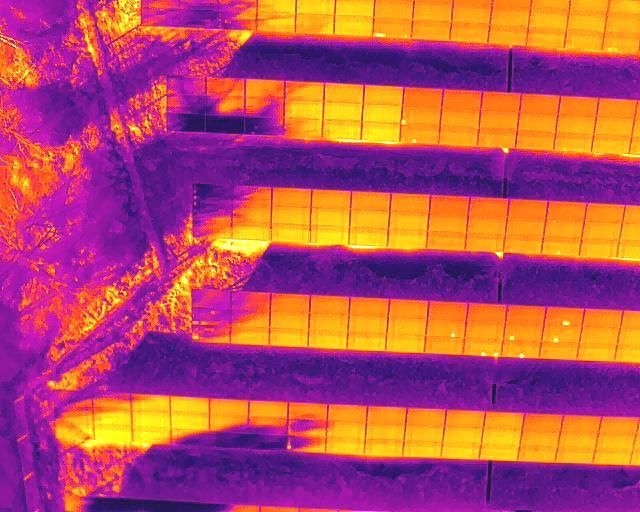Cell: (478, 129, 517, 147), (544, 308, 583, 326), (542, 238, 580, 256), (231, 309, 270, 326), (426, 320, 465, 337), (400, 125, 438, 142), (400, 108, 440, 124), (541, 326, 581, 342), (504, 325, 544, 340)
Cell-Multi: (602, 32, 639, 53), (553, 133, 593, 151), (373, 18, 410, 37), (501, 340, 541, 357), (463, 339, 503, 355), (193, 326, 230, 343), (193, 310, 231, 325)
No-Anomaly: (452, 2, 490, 24), (530, 6, 568, 28), (489, 24, 528, 45), (334, 15, 373, 36), (403, 87, 443, 107), (413, 0, 451, 21), (390, 193, 429, 213), (451, 23, 490, 43), (505, 306, 546, 325), (439, 124, 477, 144), (568, 10, 606, 30), (324, 84, 364, 103), (581, 310, 623, 328), (311, 189, 350, 208), (490, 5, 529, 24), (351, 191, 390, 210), (271, 187, 310, 206), (364, 85, 403, 104), (520, 95, 559, 114), (349, 227, 388, 246), (412, 21, 451, 40), (528, 28, 567, 47), (563, 31, 604, 49), (586, 203, 624, 222), (598, 99, 636, 118), (427, 232, 465, 251), (592, 135, 632, 153), (577, 344, 617, 362), (606, 11, 640, 32), (324, 120, 363, 138), (429, 195, 468, 213), (522, 413, 561, 431), (481, 92, 520, 110), (558, 97, 597, 115), (445, 410, 484, 428), (93, 409, 132, 427), (555, 116, 596, 133), (464, 321, 505, 338), (508, 200, 546, 218), (443, 90, 481, 108), (480, 111, 518, 129), (285, 119, 323, 137), (467, 216, 505, 234), (375, 0, 413, 18), (367, 406, 405, 424), (296, 16, 334, 34), (270, 329, 308, 347), (311, 225, 349, 243), (271, 207, 311, 224), (389, 212, 429, 229), (598, 416, 638, 433), (323, 103, 363, 120), (271, 225, 311, 242), (388, 301, 428, 318), (270, 295, 310, 312), (386, 334, 426, 351), (579, 327, 619, 344), (440, 108, 479, 125), (468, 199, 507, 216), (132, 428, 171, 445), (429, 214, 468, 231), (547, 202, 586, 219), (582, 222, 621, 239), (506, 218, 545, 235), (596, 433, 635, 450), (516, 131, 555, 148), (328, 404, 367, 421), (288, 402, 327, 419), (348, 317, 387, 334), (171, 396, 210, 413), (405, 408, 444, 425), (518, 114, 559, 130), (365, 439, 403, 456), (363, 105, 401, 122), (133, 411, 171, 428), (504, 236, 542, 253), (579, 239, 617, 256), (310, 314, 348, 331), (594, 118, 634, 134), (310, 297, 350, 313), (466, 305, 506, 321), (425, 338, 465, 354), (387, 318, 427, 334), (561, 415, 598, 432), (545, 219, 582, 236), (311, 209, 350, 225), (350, 211, 389, 227), (327, 422, 366, 438), (442, 442, 481, 458), (170, 413, 209, 429), (210, 399, 249, 415), (388, 230, 427, 246), (349, 300, 388, 316), (427, 304, 466, 320), (270, 312, 309, 328), (231, 328, 270, 344), (249, 401, 288, 417), (482, 429, 520, 445), (232, 224, 270, 240), (361, 123, 399, 139), (285, 101, 323, 117), (485, 412, 523, 428), (465, 235, 503, 251), (347, 334, 385, 350), (309, 331, 347, 347), (518, 446, 558, 461), (481, 445, 518, 461), (403, 442, 442, 457), (404, 426, 443, 441), (366, 424, 405, 439), (296, 0, 335, 15), (326, 439, 365, 454), (540, 343, 579, 358), (93, 427, 131, 442), (521, 431, 559, 446), (559, 433, 596, 448), (337, 0, 374, 15), (558, 448, 595, 463), (444, 428, 483, 442), (594, 450, 632, 464), (257, 0, 295, 13)
Shadowing: (193, 184, 232, 203), (257, 13, 296, 32), (206, 79, 245, 98), (233, 186, 271, 205), (193, 291, 231, 310), (179, 10, 219, 28), (166, 96, 206, 114), (219, 12, 256, 31), (245, 117, 284, 135), (141, 9, 180, 27), (246, 98, 285, 116), (206, 98, 245, 116), (54, 409, 93, 427), (232, 206, 270, 224), (231, 292, 271, 309), (206, 116, 245, 133), (193, 204, 232, 221), (285, 83, 324, 100), (246, 81, 285, 98), (166, 115, 205, 131), (193, 222, 232, 238), (288, 420, 327, 436), (167, 79, 206, 95), (288, 436, 326, 452), (249, 432, 287, 448), (132, 395, 170, 411), (93, 392, 131, 408), (209, 430, 249, 445), (210, 415, 249, 430), (54, 427, 94, 441), (170, 431, 209, 445), (249, 417, 287, 431)
